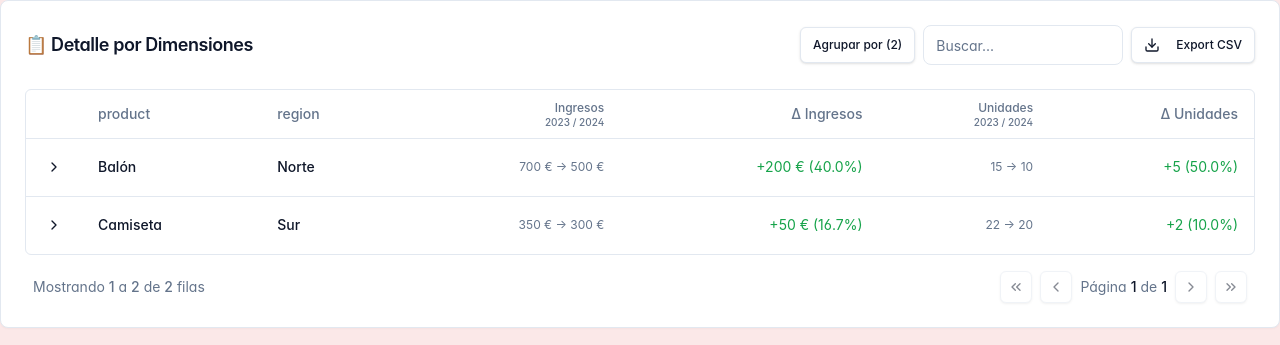
it: GranularTable › Búsqueda y Filtrado › debe mostrar todas las filas cuando búsqueda está vacía
Step 1. Type "Balón" into the field with placeholder "Buscar..." → (1023, 45), box [923,25,1123,65]
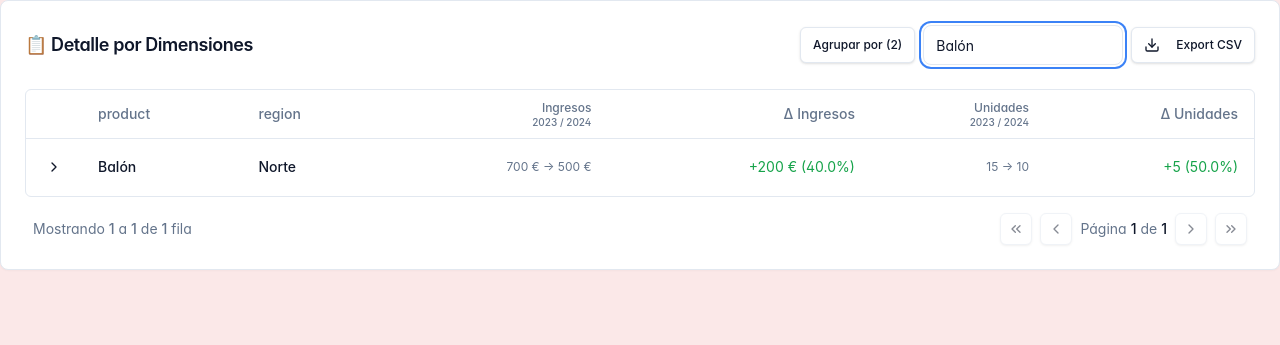
Step 2. Clear the field with placeholder "Buscar..." → (1023, 45), box [923,25,1123,65]
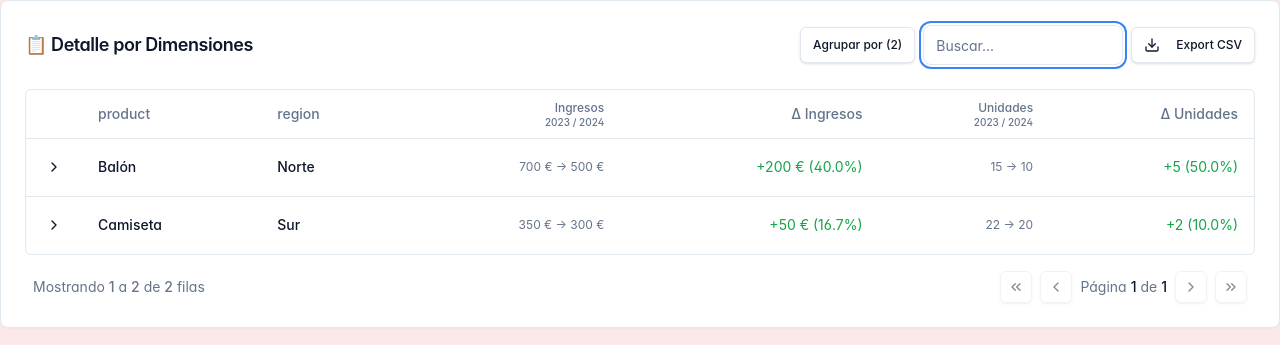
Expected: the text "Balón" is shown, [82,138,261,196]
Expected: the text "Camiseta" is shown, [82,196,261,254]
